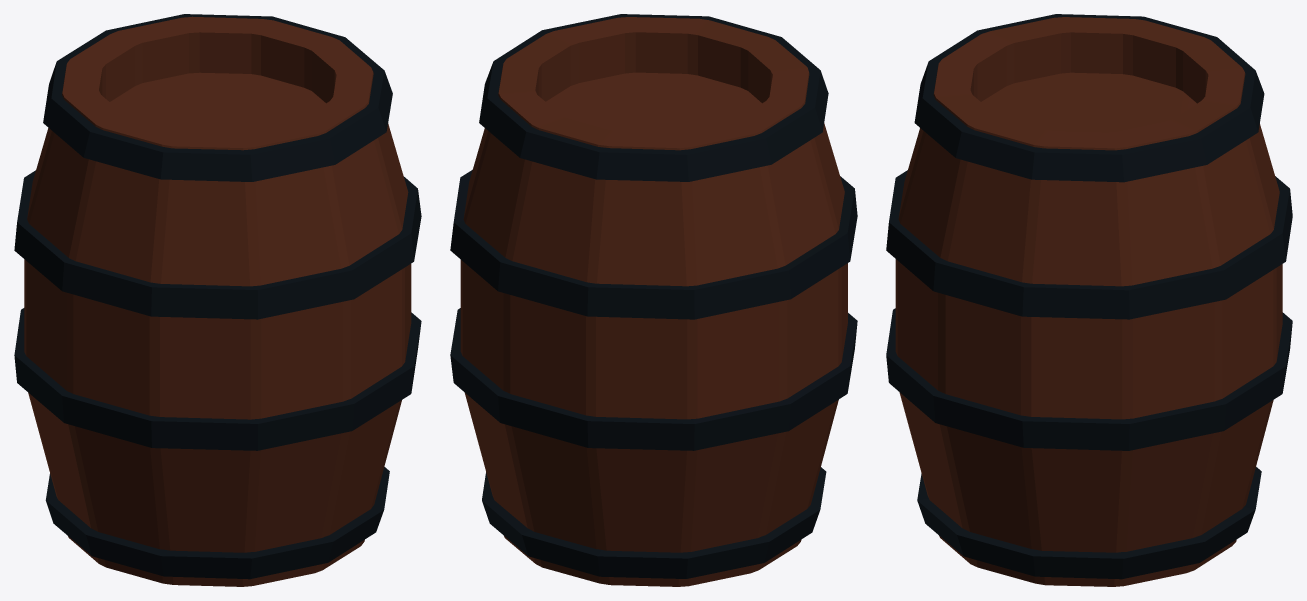
The model's file is Barrel.fbx.
3 renders of one model, left to right at view 1: azimuth 30°, elevation 25°; view 2: azimuth 150°, elevation 25°; view 3: azimuth 270°, elevation 25°, orthographic.
Visible parts, largest first — view 1: Barrel; view 2: Barrel; view 3: Barrel.
Boxes of the visible parts, <box> form: Barrel: <box>14,14,421,586</box>; Barrel: <box>450,14,857,586</box>; Barrel: <box>886,14,1292,586</box>.
Size of the model in its own units: 21.78 by 26.05 by 21.78.
